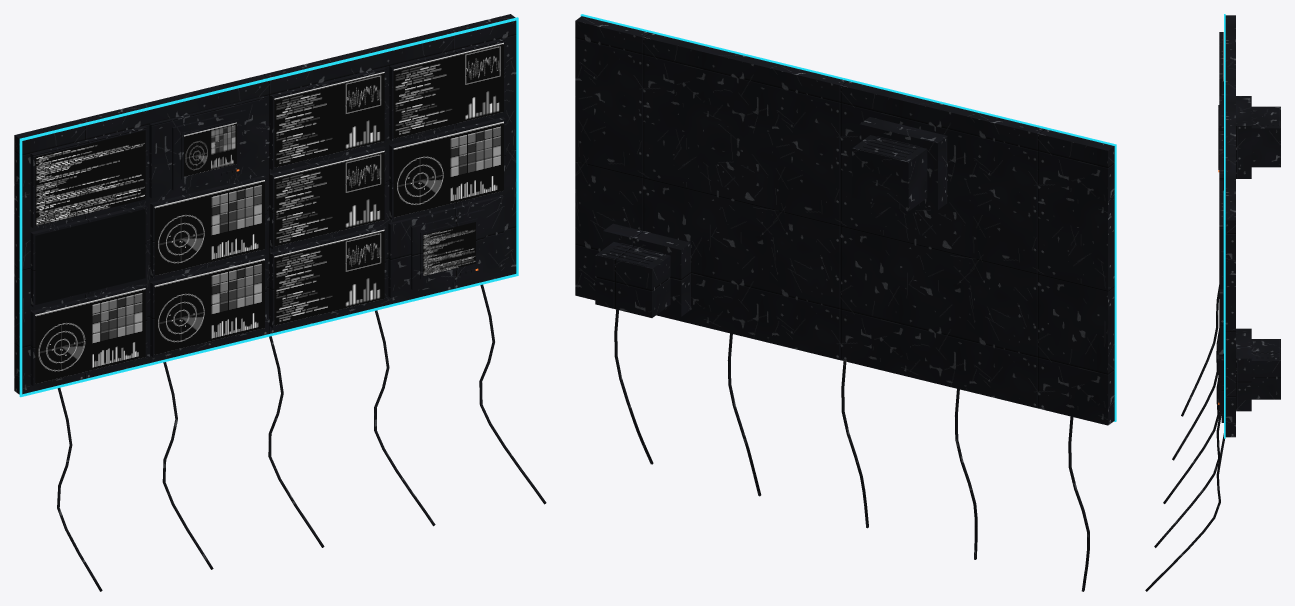
File: Tech_MonitorBank.gltf
3 views of the same model, side by side, from view 1: azimuth 30°, elevation 25°; view 2: azimuth 150°, elevation 25°; view 3: azimuth 270°, elevation 25° (orthographic). The views are drawn at different scales.
Visible parts, largest first — view 1: Tech_MonitorBank; view 2: Tech_MonitorBank; view 3: Tech_MonitorBank.
Part boxes in pixels (x1,y1,x2,y2): Tech_MonitorBank: [14, 14, 546, 591]; Tech_MonitorBank: [575, 14, 1116, 591]; Tech_MonitorBank: [1145, 14, 1280, 591].
Size of the model in its own units: 2.71 by 2.33 by 0.7548.
Materials: 7 (4 with a texture image).
